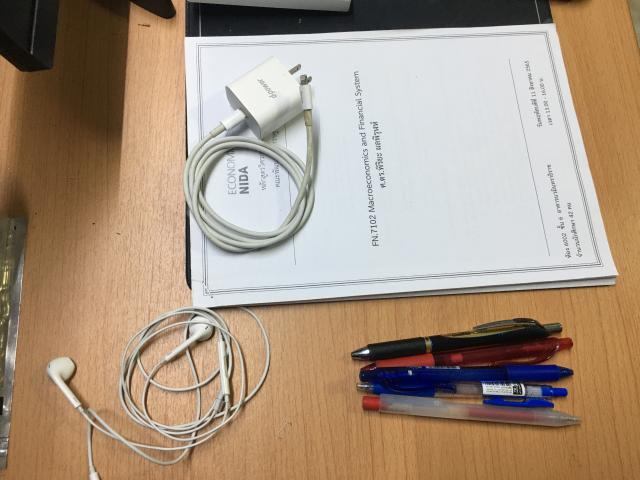Pen: (349, 319, 582, 431)
paper: (185, 24, 618, 308)
wire: (46, 306, 270, 479), (182, 56, 315, 252)
